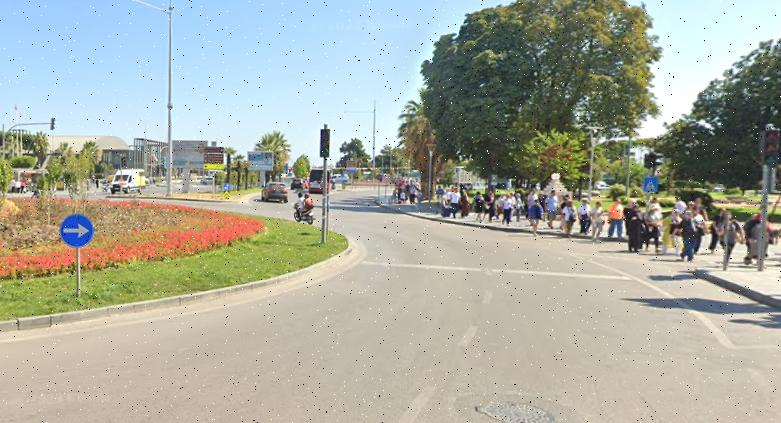turnright: (62, 213, 95, 246)
